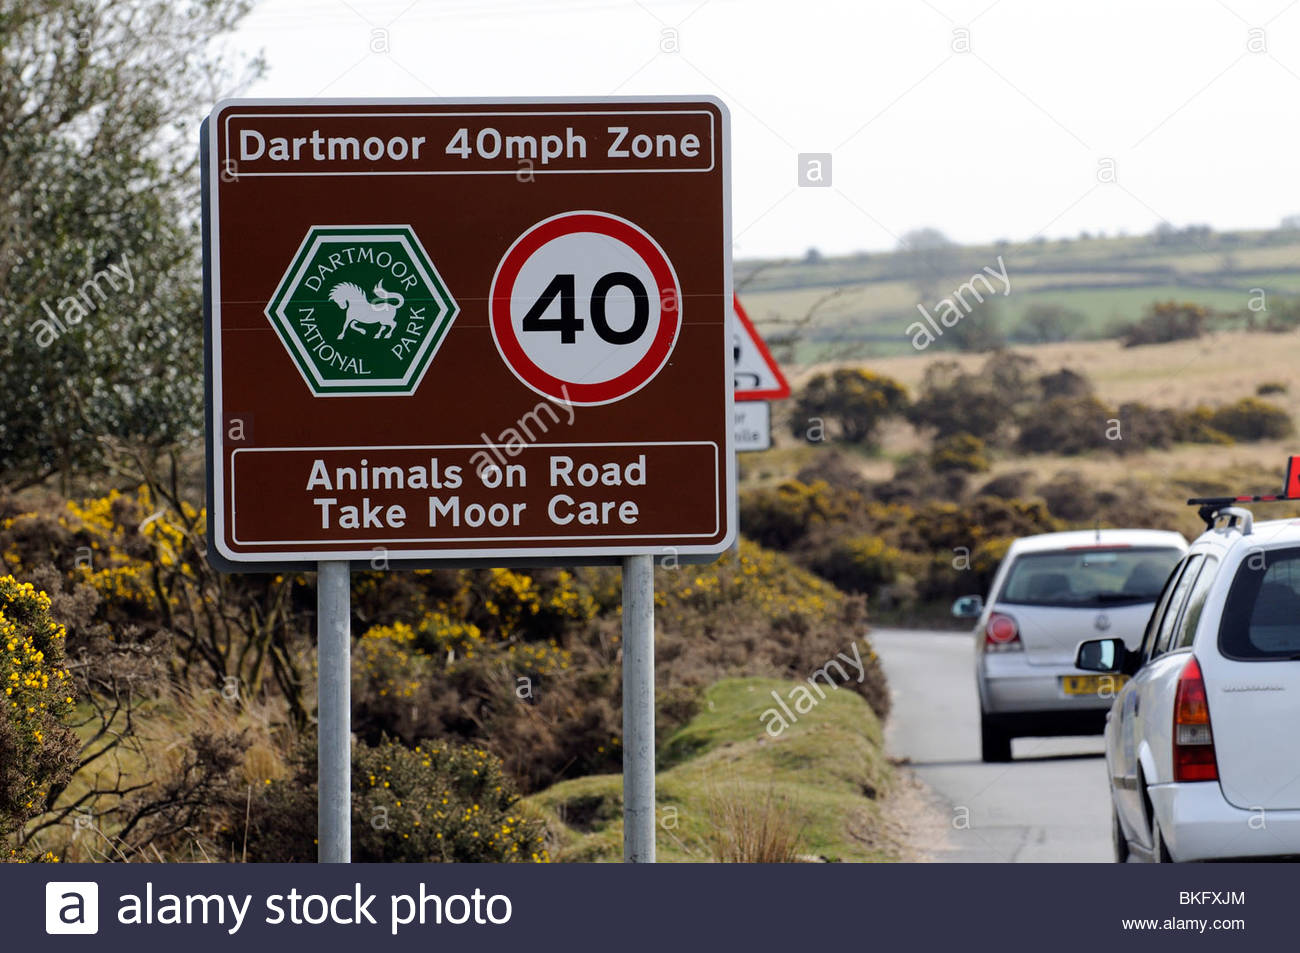Speed_limit_40km: (489, 209, 689, 410)
